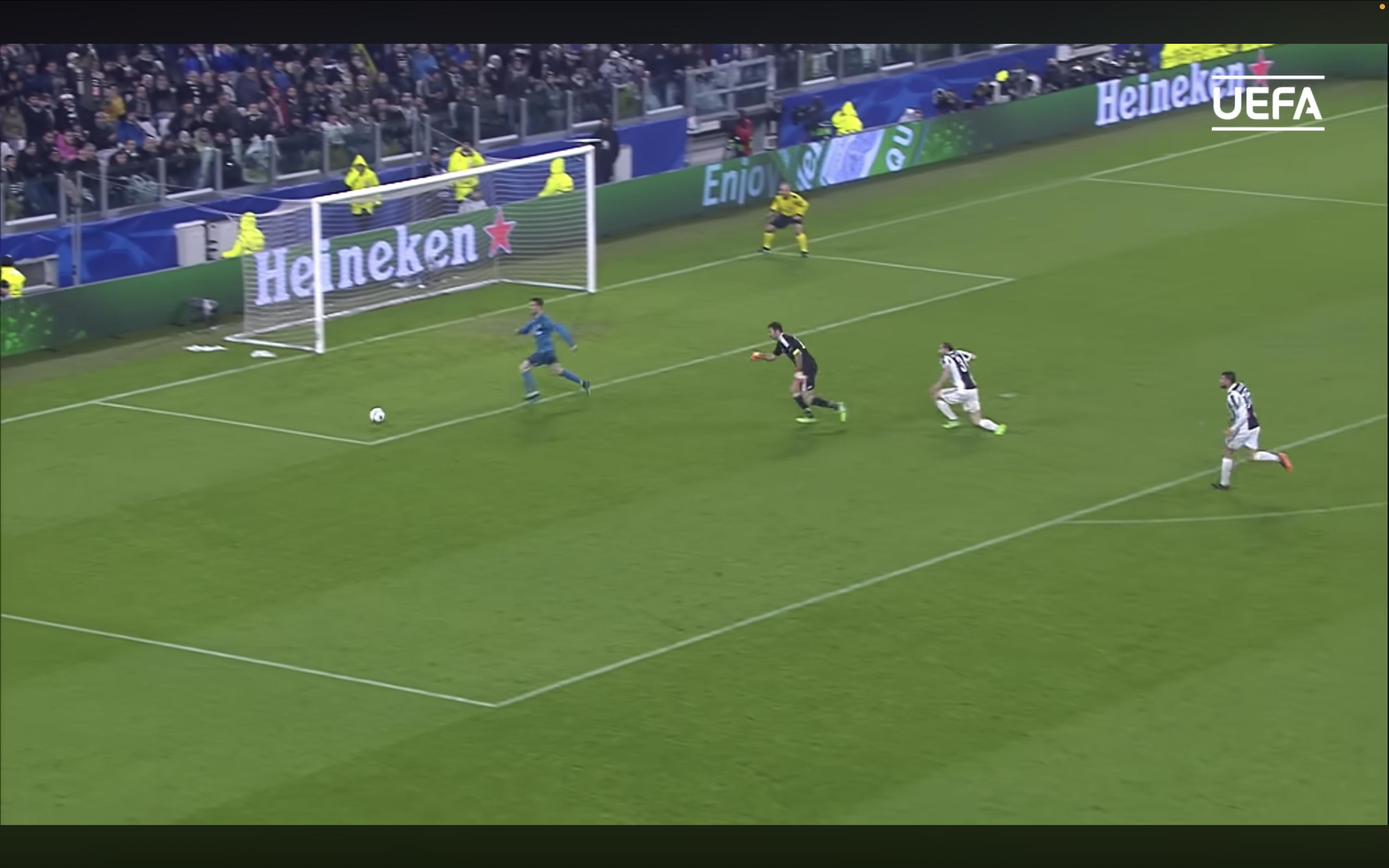ball: (369, 407, 385, 424)
player: (752, 322, 847, 423), (1212, 372, 1292, 490), (517, 298, 591, 401), (931, 344, 1005, 435)
referee: (761, 183, 809, 256)
